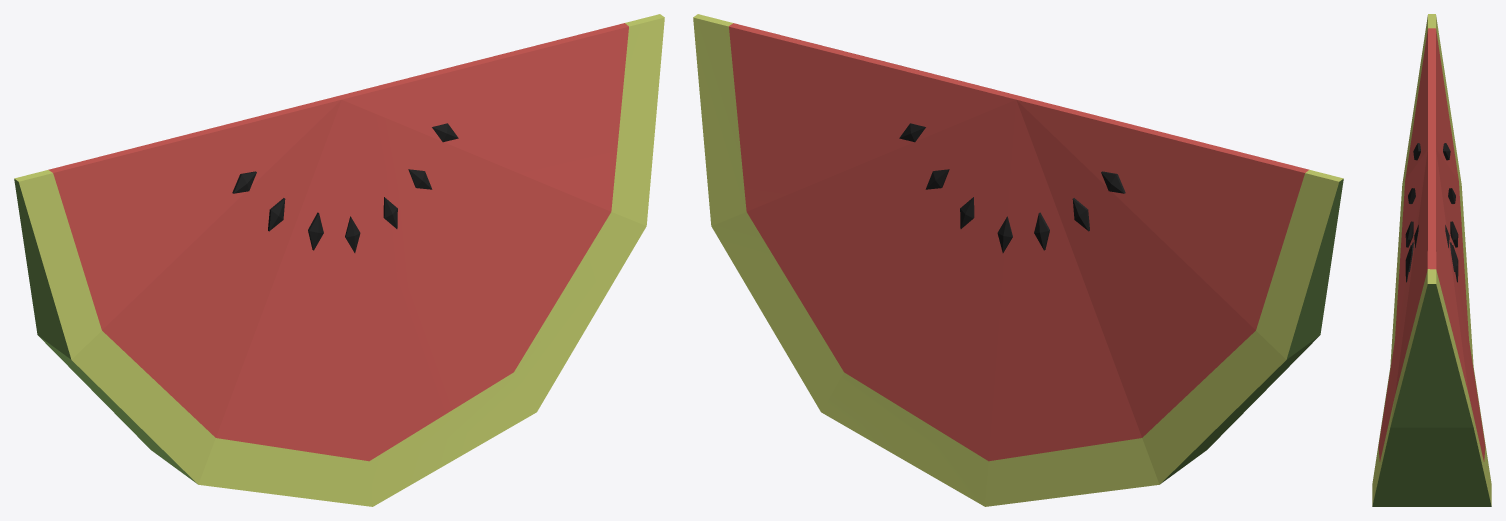
The model's file is Watermelon_02.fbx.
3 views of the same model, side by side, from view 1: azimuth 30°, elevation 25°; view 2: azimuth 150°, elevation 25°; view 3: azimuth 270°, elevation 25° (orthographic). The views are drawn at different scales.
Visible parts, largest first — view 1: Watermelon_02; view 2: Watermelon_02; view 3: Watermelon_02.
Part boxes in pixels (left/top/right/bottom): Watermelon_02: left=14, top=14, right=664, bottom=506; Watermelon_02: left=693, top=14, right=1343, bottom=506; Watermelon_02: left=1372, top=14, right=1491, bottom=506.
Bounding box in the file's own units: 25.29 × 14.49 × 4.63.
